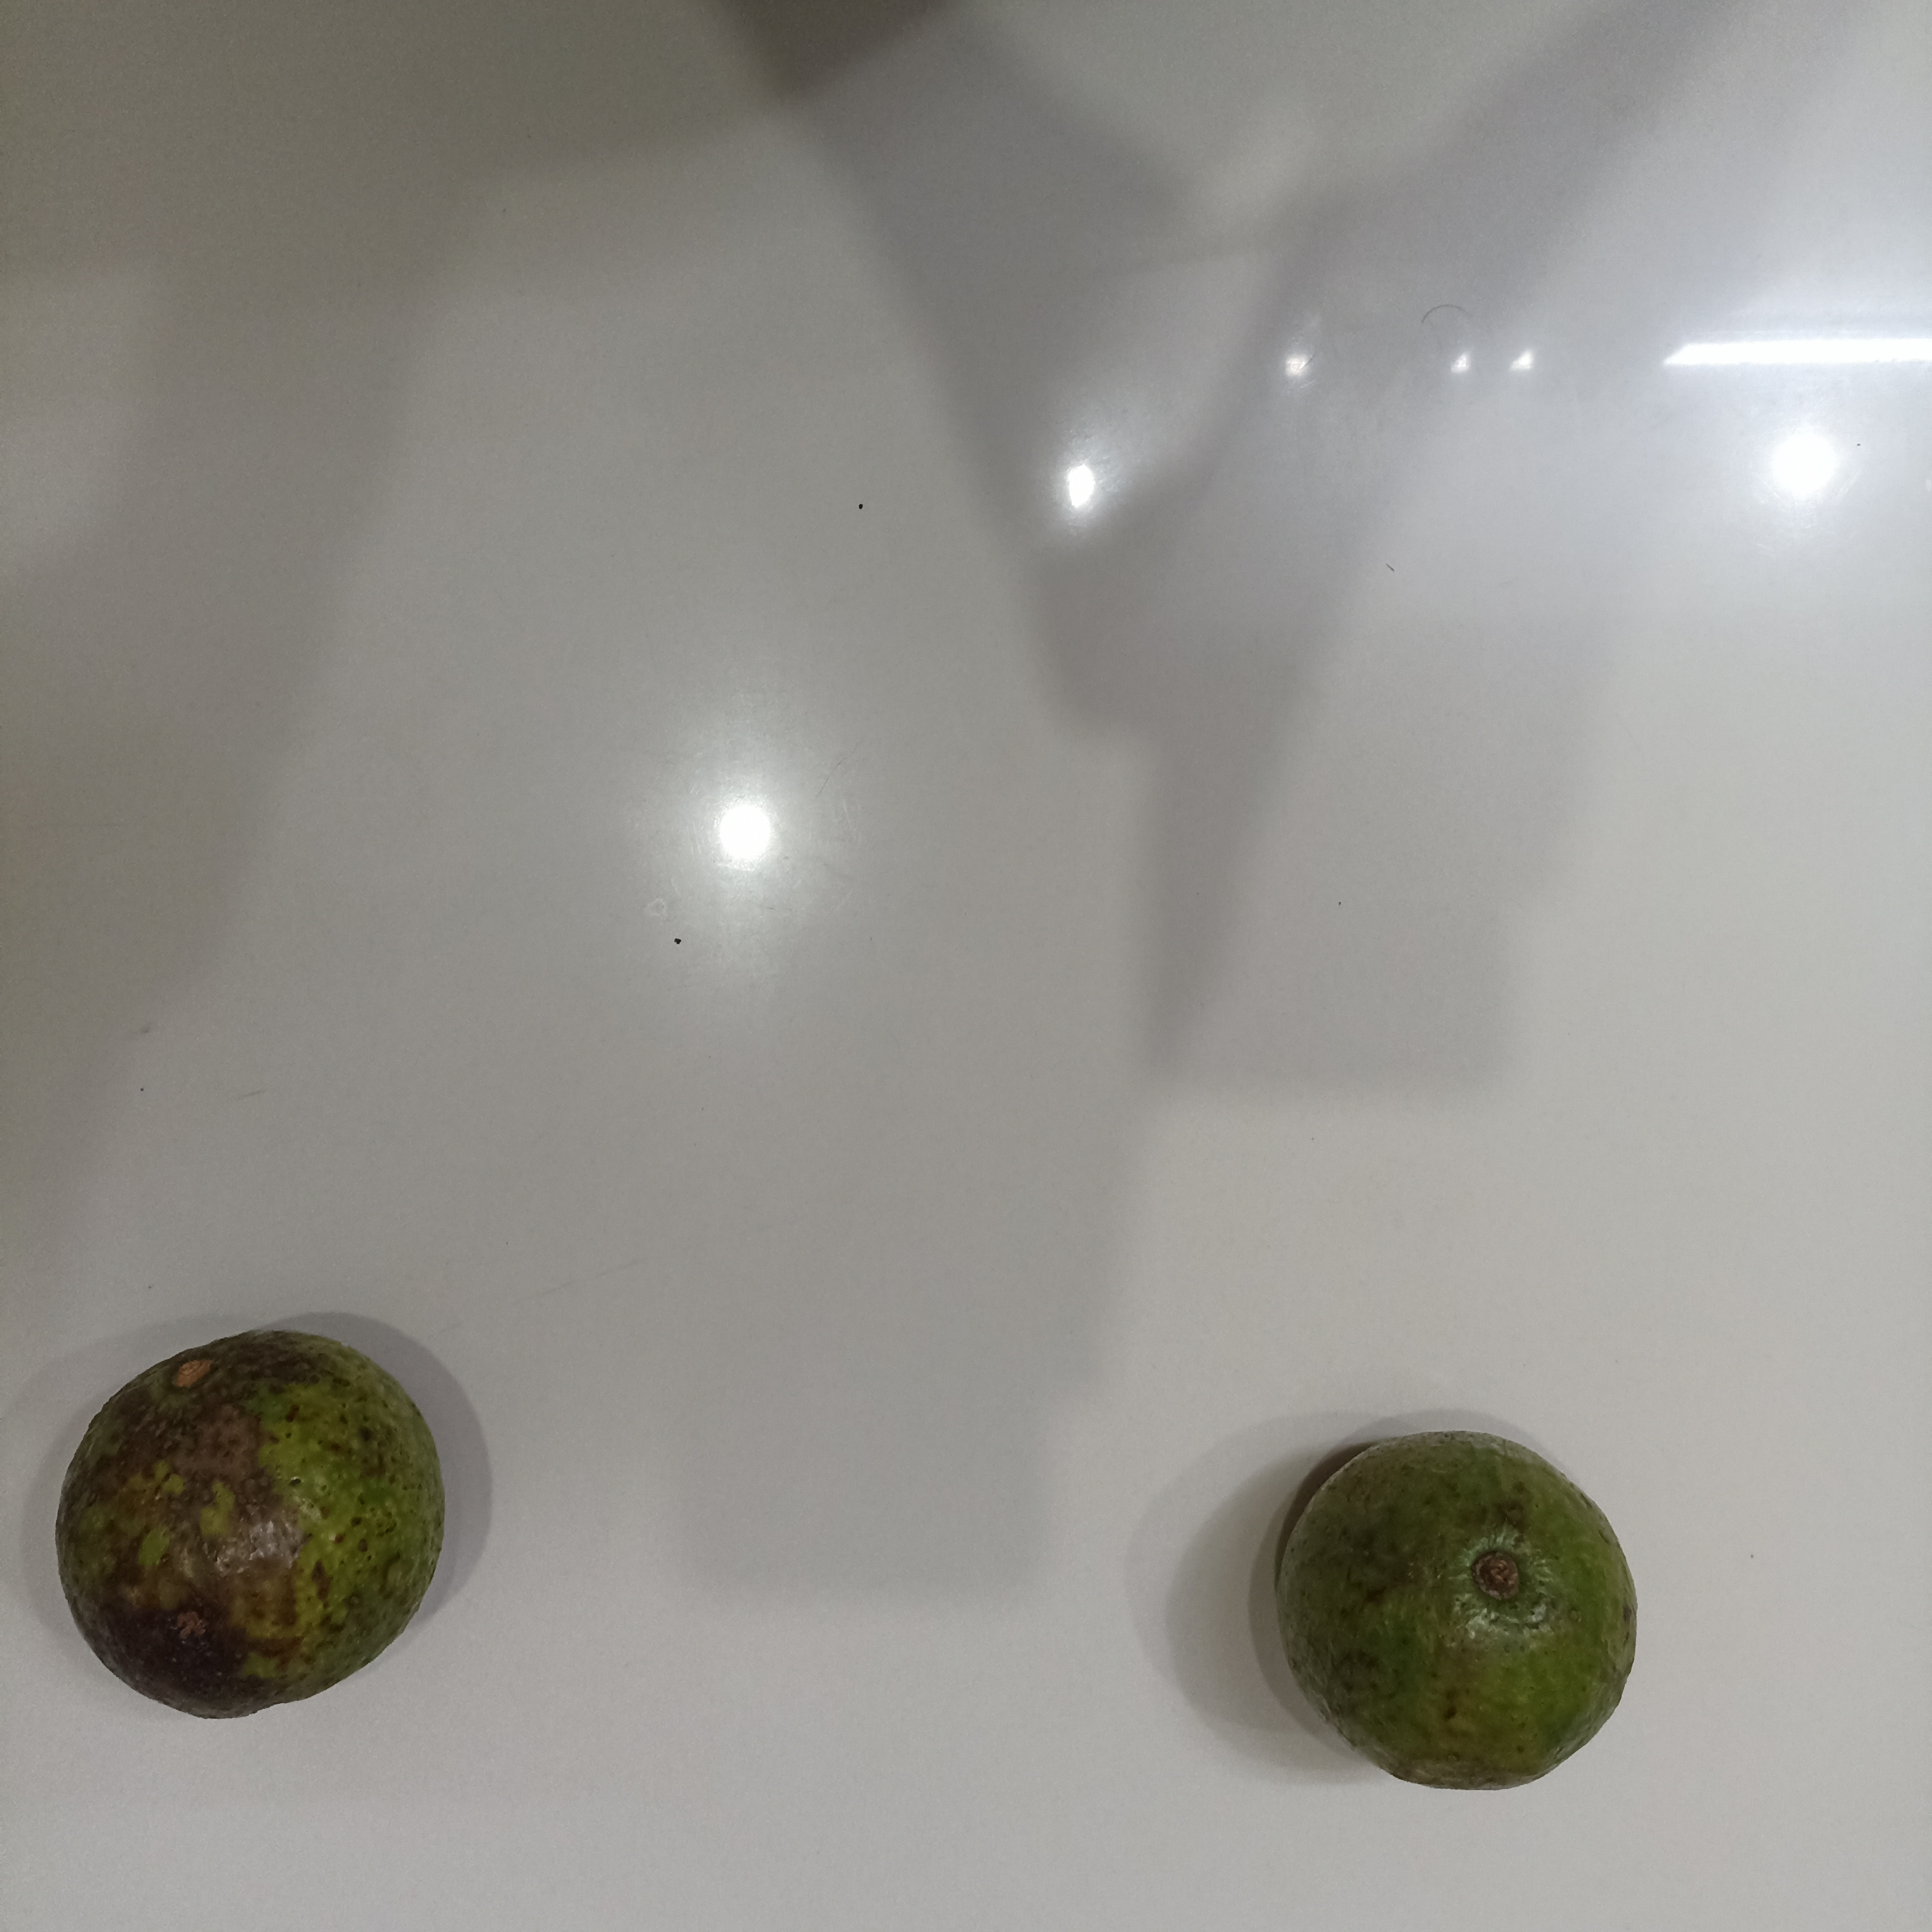Bo: (55, 1323, 442, 1716), (1281, 1422, 1637, 1787)
